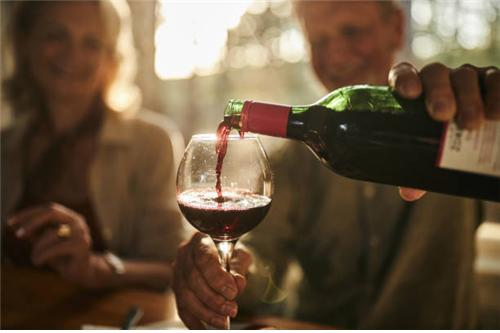alcohol: (224, 80, 499, 201), (171, 131, 271, 325)
